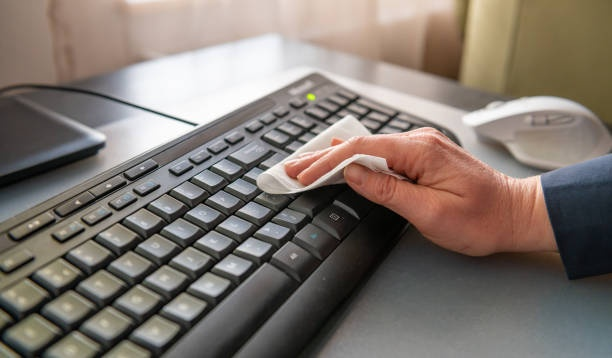keyboard: (4, 68, 462, 358)
mouse: (465, 93, 610, 170)
